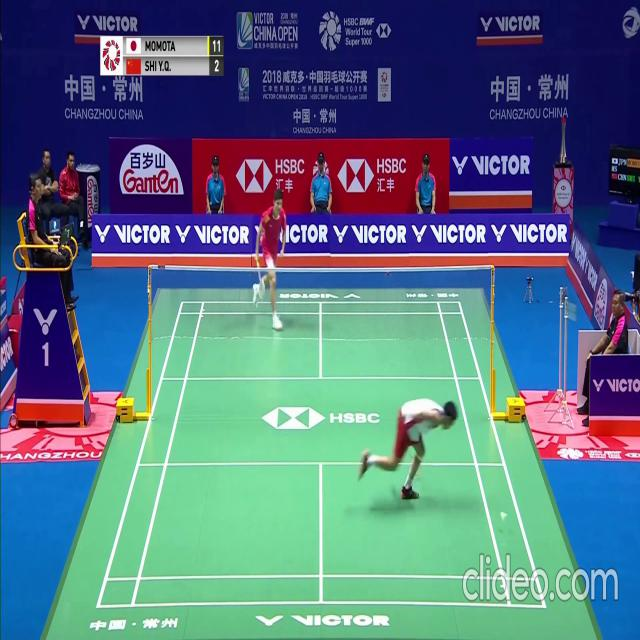Shuttlecock: (501, 512, 506, 519)
